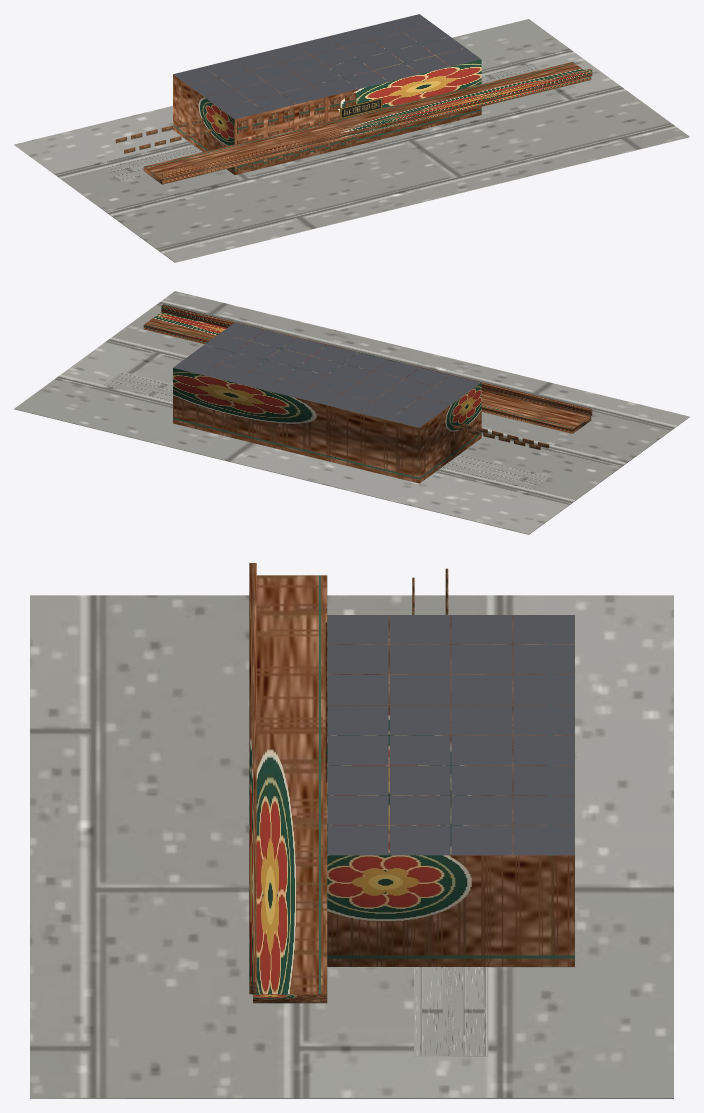
3 renders of one model, top to bottom at view 1: azimuth 30°, elevation 25°; view 2: azimuth 150°, elevation 25°; view 3: azimuth 270°, elevation 25°, orthographic. The views are drawn at different scales.
Parts seen in each view (by area): view 1: 11140_02_04550_033_01_L2__base, 11140_02_04550_033_02_L2__body, 11140_02_04550_033_03_L2__roof, 11140_02_04550_033_05_L2__openings, 11140_02_04550_033_04_L2__sign; view 2: 11140_02_04550_033_01_L2__base, 11140_02_04550_033_02_L2__body, 11140_02_04550_033_03_L2__roof, 11140_02_04550_033_05_L2__openings; view 3: 11140_02_04550_033_01_L2__base, 11140_02_04550_033_02_L2__body, 11140_02_04550_033_03_L2__roof.
Boxes of the visible parts, x1=… form: 11140_02_04550_033_01_L2__base: x1=14, y1=19, x2=689, y2=262; 11140_02_04550_033_02_L2__body: x1=143, y1=22, x2=592, y2=184; 11140_02_04550_033_03_L2__roof: x1=173, y1=14, x2=480, y2=119; 11140_02_04550_033_05_L2__openings: x1=115, y1=92, x2=356, y2=171; 11140_02_04550_033_04_L2__sign: x1=340, y1=98, x2=382, y2=119; 11140_02_04550_033_01_L2__base: x1=14, y1=291, x2=689, y2=534; 11140_02_04550_033_02_L2__body: x1=143, y1=304, x2=592, y2=483; 11140_02_04550_033_03_L2__roof: x1=173, y1=322, x2=480, y2=427; 11140_02_04550_033_05_L2__openings: x1=453, y1=423, x2=549, y2=449; 11140_02_04550_033_01_L2__base: x1=30, y1=595, x2=673, y2=1098; 11140_02_04550_033_02_L2__body: x1=249, y1=563, x2=574, y2=1003; 11140_02_04550_033_03_L2__roof: x1=327, y1=615, x2=574, y2=855.
Bounding box in the file's own units: 96 × 10.02 × 52.
Materials: 5 (5 with a texture image).
